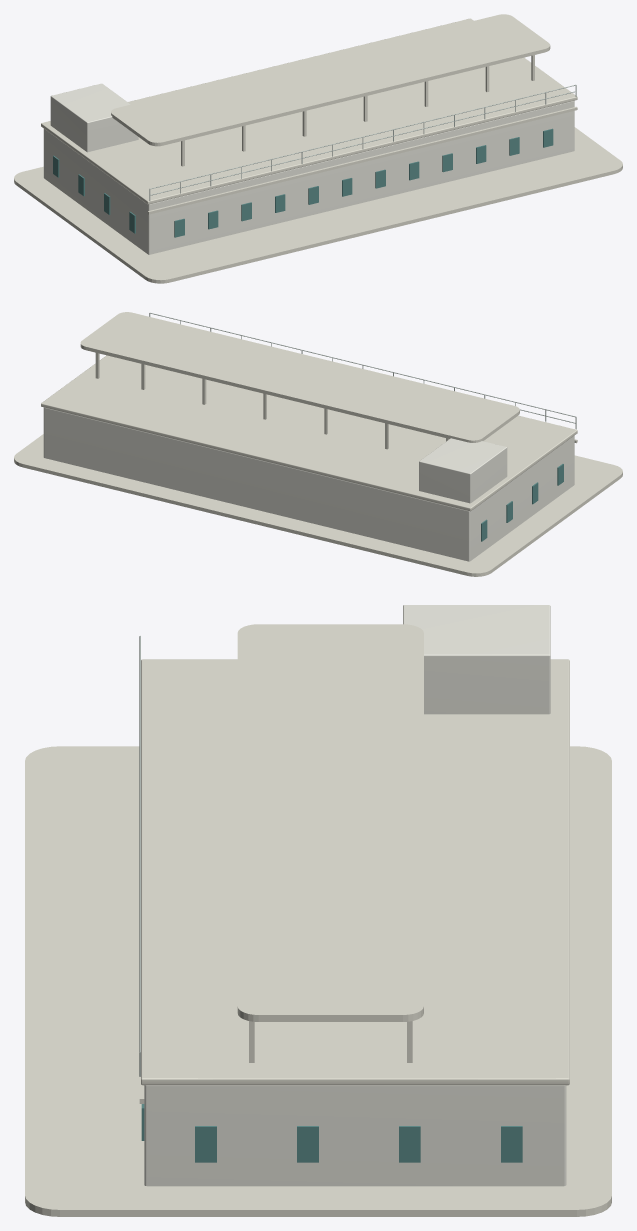
Rendered from roof_terrace.glb.
3 renders of one model, top to bottom at view 1: azimuth 30°, elevation 25°; view 2: azimuth 150°, elevation 25°; view 3: azimuth 270°, elevation 25°, orthographic. The views are drawn at different scales.
Parts seen in each view (by area): view 1: Upper roof terrace slab, Set-back white upper block, Long narrow rooftop shelter, Upper terrace floor, Upper service tower - approximate, Upper front horizontal stone cornice, Rooftop terrace front rail.001, Rooftop terrace front rail; view 2: Upper roof terrace slab, Set-back white upper block, Long narrow rooftop shelter, Upper terrace floor, Upper service tower - approximate, Rooftop terrace front rail.001; view 3: Upper roof terrace slab, Upper terrace floor, Long narrow rooftop shelter, Set-back white upper block, Upper service tower - approximate, Rooftop terrace front rail.001.
Part boxes in pixels (bbox=[...]): Upper roof terrace slab: bbox=[41, 18, 577, 204]; Set-back white upper block: bbox=[43, 100, 574, 254]; Long narrow rooftop shelter: bbox=[111, 14, 550, 146]; Upper terrace floor: bbox=[14, 127, 622, 283]; Upper service tower - approximate: bbox=[50, 83, 138, 152]; Upper front horizontal stone cornice: bbox=[147, 106, 577, 214]; Rooftop terrace front rail.001: bbox=[150, 84, 575, 189]; Rooftop terrace front rail: bbox=[150, 91, 576, 195]; Upper roof terrace slab: bbox=[41, 355, 577, 511]; Set-back white upper block: bbox=[43, 407, 574, 561]; Long narrow rooftop shelter: bbox=[80, 312, 519, 442]; Upper terrace floor: bbox=[14, 434, 622, 576]; Upper service tower - approximate: bbox=[419, 438, 507, 503]; Rooftop terrace front rail.001: bbox=[150, 312, 575, 417]; Upper roof terrace slab: bbox=[141, 659, 569, 1085]; Upper terrace floor: bbox=[25, 746, 611, 1216]; Long narrow rooftop shelter: bbox=[237, 624, 423, 1021]; Set-back white upper block: bbox=[144, 1085, 566, 1186]; Upper service tower - approximate: bbox=[403, 605, 550, 714]; Rooftop terrace front rail.001: bbox=[139, 636, 140, 1052].
Bounding box in the file's own units: 31.2 × 5.66 × 16.7.
